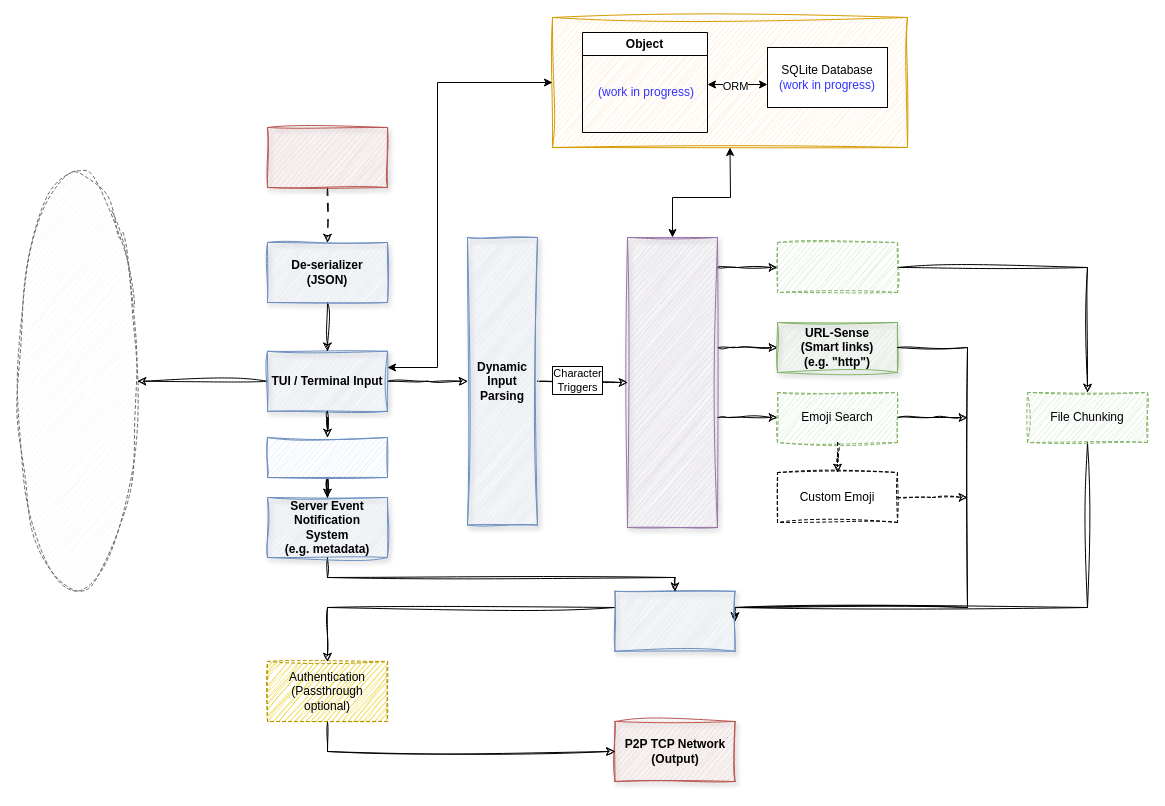
Image size: 1165x806. Some labels were removed from this diagram. Each missing label, with the centre of its shape:
ASCII Physics Poke (screen shake) ... Visual things: the point at 77,380
Command Parsing for GUI: the point at 327,457
File Path Searching (e.g. "./..."): the point at 837,267
Fuzzy Matching Autocomplete: the point at 673,383
P2P TCP Network (Input): the point at 328,158
Serializer (JSON): the point at 675,622
